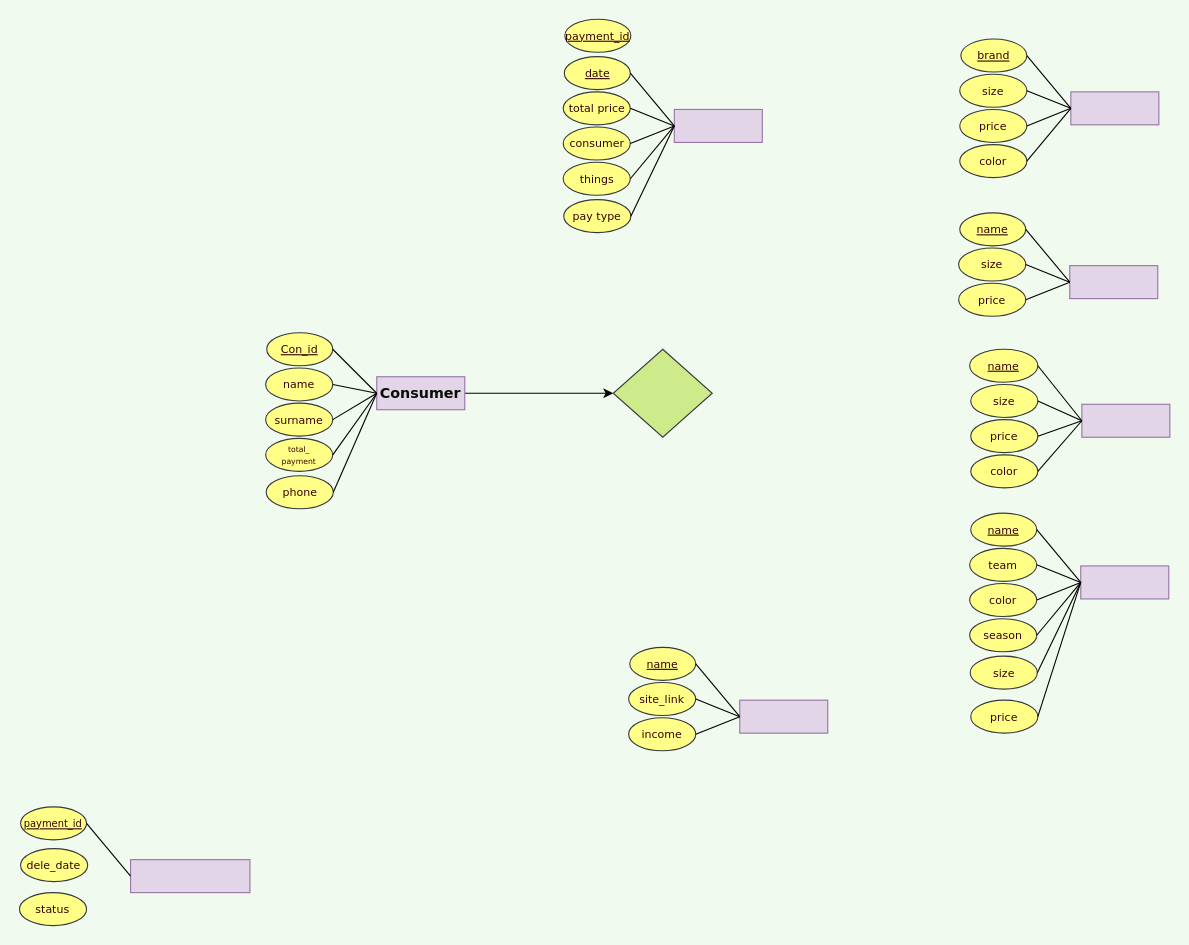
This 1189x945 diagram has some shape labels left out. Each missing label, with the centre of its shape:
AFF: point 783,716
Balls: point 1113,282
Boots: point 1114,108
buys: point 662,392
Clothes: point 1124,582
Delebiration: point 189,876
Payment: point 717,125
Tools: point 1125,420
